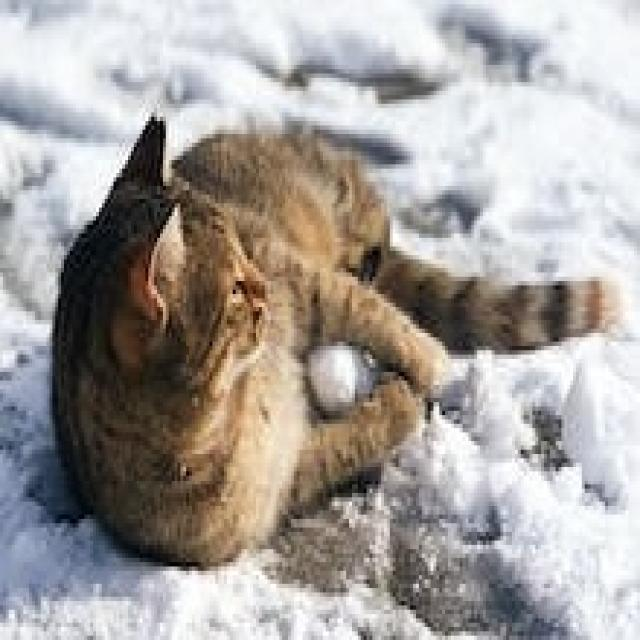cat: (49, 105, 626, 572)
